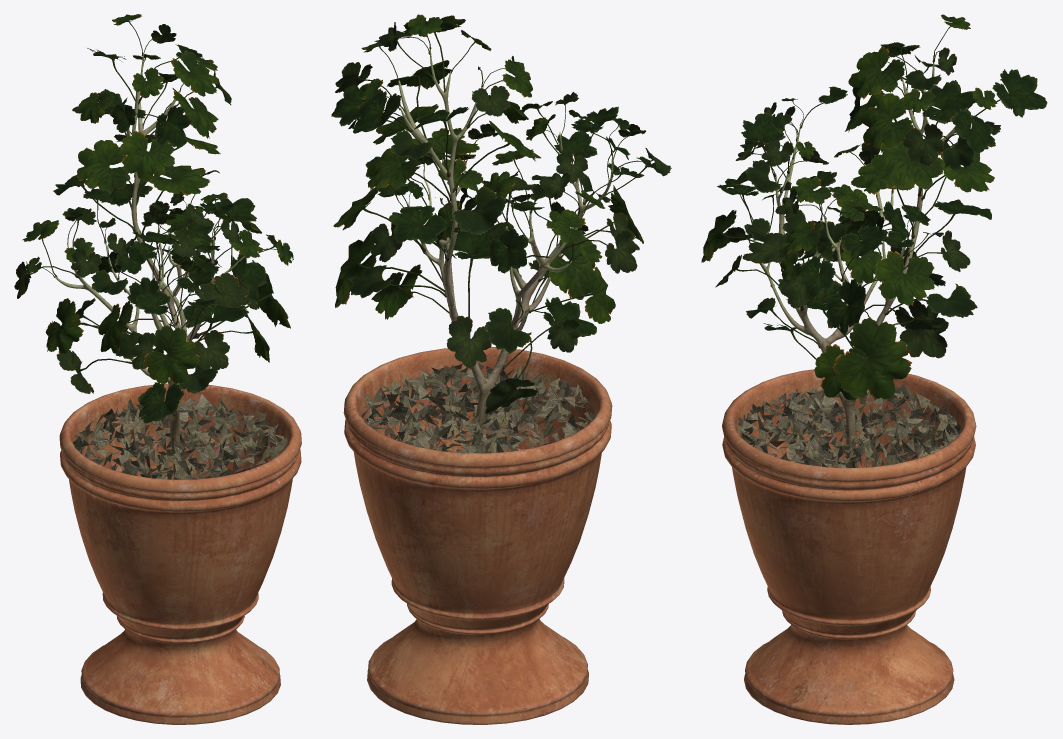
Rendered from potted_plant_01.glb.
3 renders of one model, left to right at view 1: azimuth 30°, elevation 25°; view 2: azimuth 150°, elevation 25°; view 3: azimuth 270°, elevation 25°, orthographic. The views are drawn at different scales.
Parts seen in each view (by area): view 1: potted_plant_01_pot, potted_plant_01_leaves, potted_plant_01_pebbles, potted_plant_01_stem; view 2: potted_plant_01_pot, potted_plant_01_leaves, potted_plant_01_pebbles, potted_plant_01_stem; view 3: potted_plant_01_pot, potted_plant_01_leaves, potted_plant_01_pebbles, potted_plant_01_stem.
Boxes of the visible parts, <box> form: potted_plant_01_pot: <box>59,383,301,724</box>; potted_plant_01_leaves: <box>14,14,293,423</box>; potted_plant_01_pebbles: <box>73,394,287,479</box>; potted_plant_01_stem: <box>54,54,244,479</box>; potted_plant_01_pot: <box>343,347,612,724</box>; potted_plant_01_leaves: <box>331,14,671,413</box>; potted_plant_01_pebbles: <box>361,362,595,453</box>; potted_plant_01_stem: <box>398,49,613,453</box>; potted_plant_01_pot: <box>722,369,976,724</box>; potted_plant_01_leaves: <box>701,14,1047,400</box>; potted_plant_01_pebbles: <box>737,384,962,467</box>; potted_plant_01_stem: <box>753,55,967,467</box>.
Size of what is drawn, in the model's own units: 0.5889 by 1.34 by 0.6366.
Materials: 2 (2 with a texture image).
